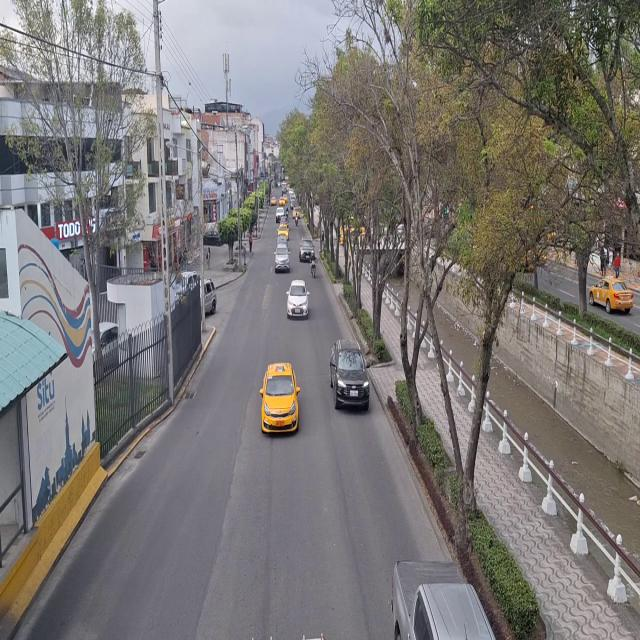CMT: (386, 554, 522, 640), (331, 338, 368, 410)
MOTORCYCLE: (310, 259, 316, 279)
SED: (263, 366, 299, 434), (590, 280, 632, 310)
SUV: (275, 242, 289, 273)
